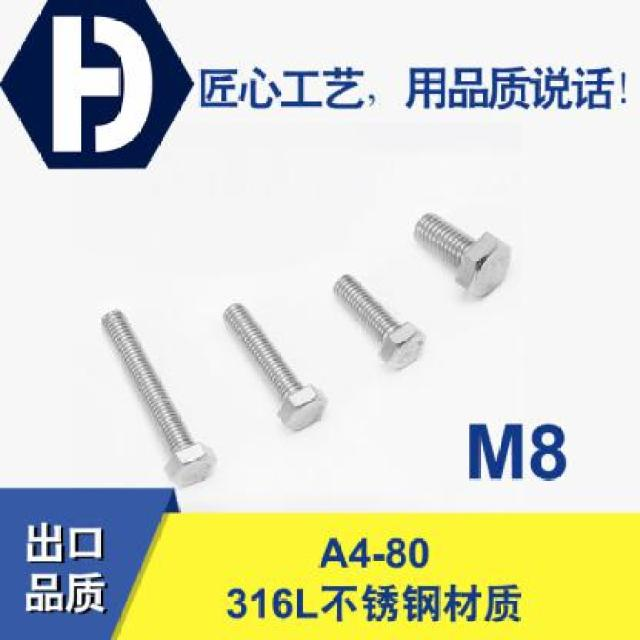Bolt: (100, 309, 216, 488), (222, 302, 328, 432), (332, 274, 428, 372), (413, 211, 513, 300)
